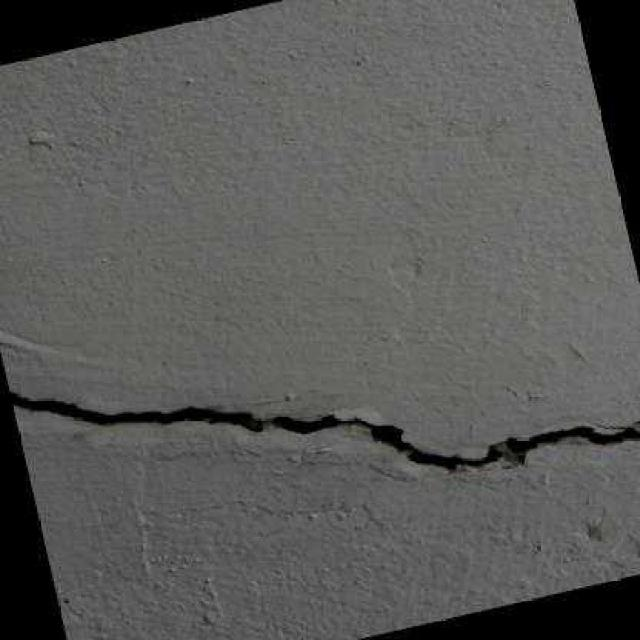D00: (12, 387, 640, 476)
